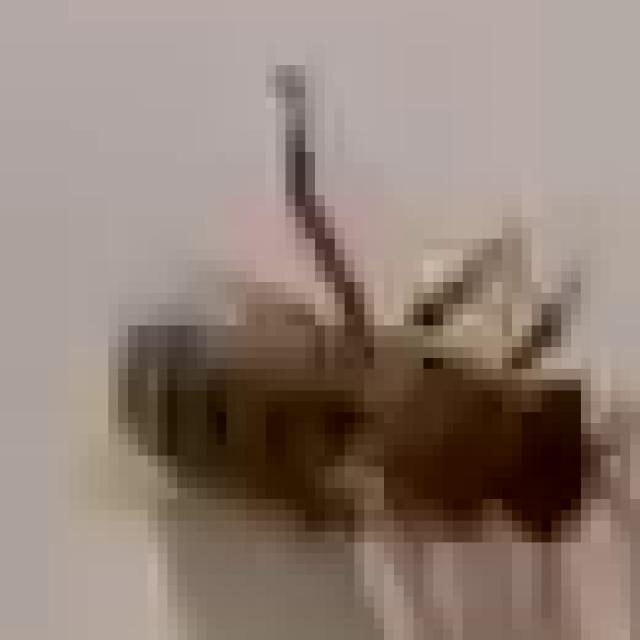honeybee: (108, 174, 640, 564)
